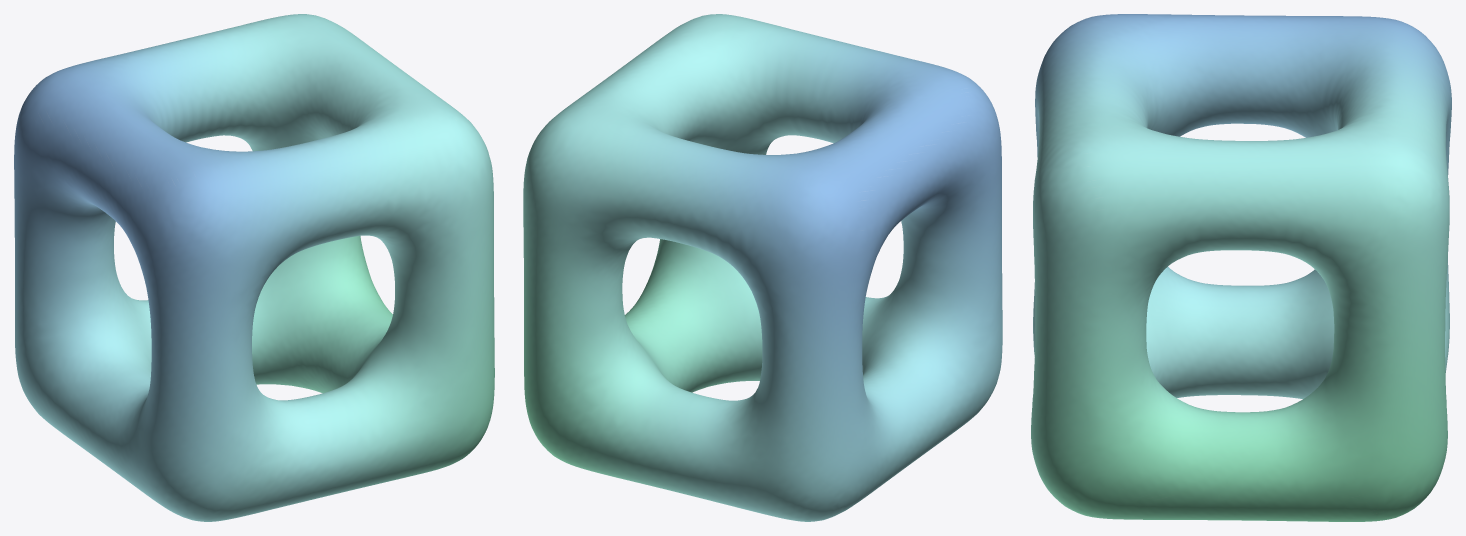
The model's file is 05_squube_static.glb.
3 renders of one model, left to right at view 1: azimuth 30°, elevation 25°; view 2: azimuth 150°, elevation 25°; view 3: azimuth 270°, elevation 25°, orthographic. The views are drawn at different scales.
Parts seen in each view (by area): view 1: 05_squube V2; view 2: 05_squube V2; view 3: 05_squube V2.
Part boxes in pixels (bbox=[...]): 05_squube V2: bbox=[14, 14, 494, 521]; 05_squube V2: bbox=[523, 14, 1002, 521]; 05_squube V2: bbox=[1031, 14, 1451, 521].
Size of the model in its own units: 0.0875 by 0.0878 by 0.0881.
Materials: 1 (1 with a texture image).
